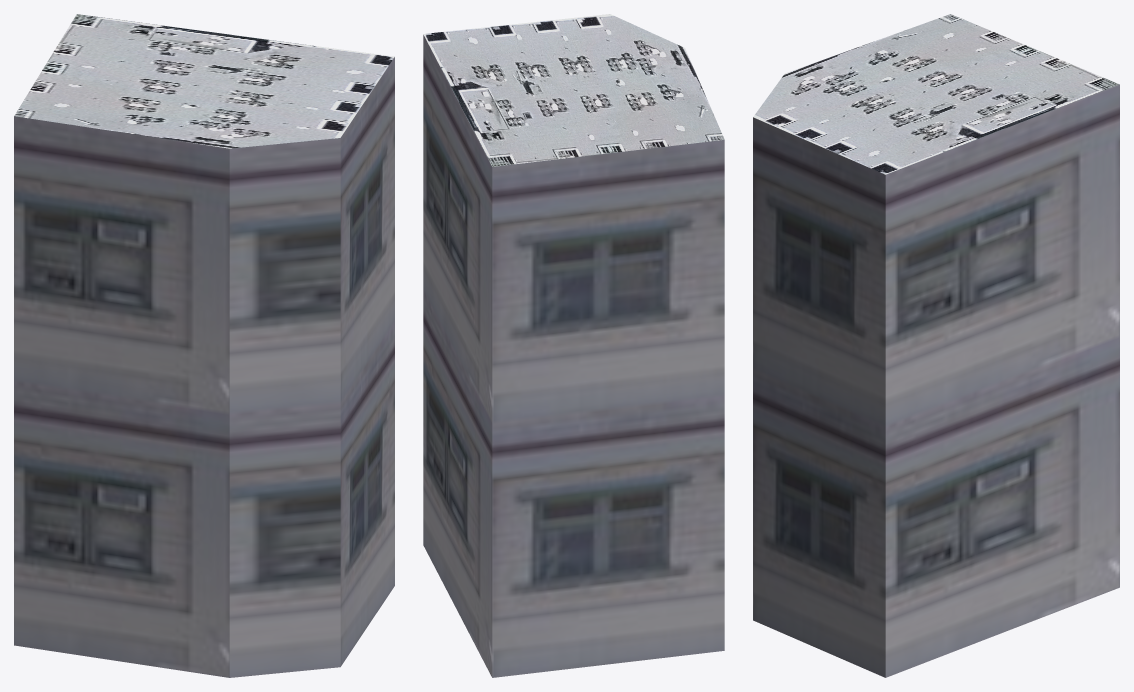
Rendered from ResTex__3113.fbx.
3 renders of one model, left to right at view 1: azimuth 30°, elevation 25°; view 2: azimuth 150°, elevation 25°; view 3: azimuth 270°, elevation 25°, orthographic. The views are drawn at different scales.
Visible parts, largest first — view 1: CityEngineMaterial_1_m, CityEngineMaterial_m; view 2: CityEngineMaterial_1_m, CityEngineMaterial_m; view 3: CityEngineMaterial_1_m, CityEngineMaterial_m.
Boxes of the visible parts, left/top/right/bottom form: CityEngineMaterial_1_m: left=14, top=57, right=394, bottom=677; CityEngineMaterial_m: left=14, top=14, right=394, bottom=148; CityEngineMaterial_1_m: left=423, top=35, right=724, bottom=677; CityEngineMaterial_m: left=423, top=14, right=724, bottom=166; CityEngineMaterial_1_m: left=753, top=84, right=1119, bottom=677; CityEngineMaterial_m: left=753, top=14, right=1119, bottom=174.
Bounding box in the file's own units: 4.11 × 6 × 3.96.
2 materials, 2 textured.
